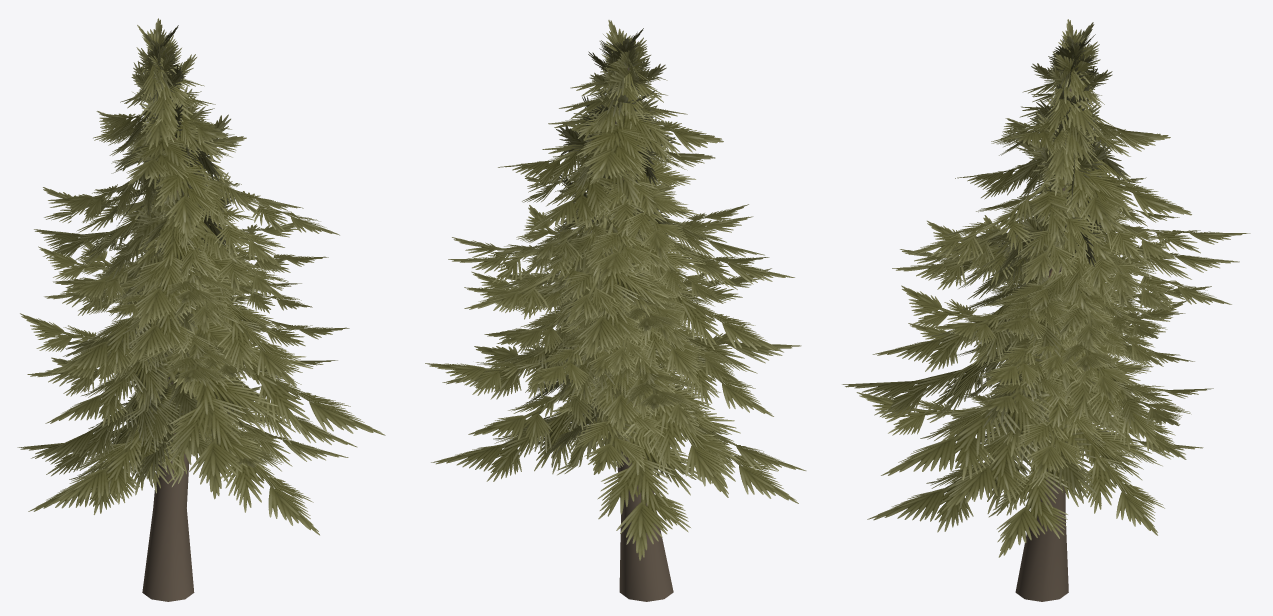
Rendered from tree_02.fbx.
3 renders of one model, left to right at view 1: azimuth 30°, elevation 25°; view 2: azimuth 150°, elevation 25°; view 3: azimuth 270°, elevation 25°, orthographic. The views are drawn at different scales.
Parts seen in each view (by area): view 1: complet_tree_v02; view 2: complet_tree_v02; view 3: complet_tree_v02.
Boxes of the visible parts, bbox=[...] form: complet_tree_v02: bbox=[17, 18, 385, 601]; complet_tree_v02: bbox=[425, 20, 806, 601]; complet_tree_v02: bbox=[842, 19, 1250, 601].
Bounding box in the file's own units: 5.75 × 9.53 × 6.38.
